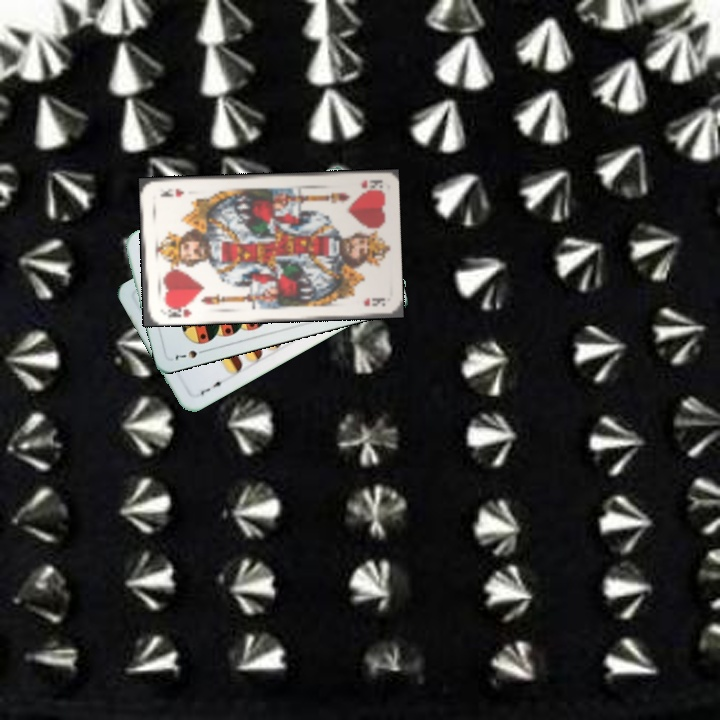E7: (195, 377, 228, 398)
HK: (161, 300, 195, 320), (357, 175, 383, 193)
S7: (171, 345, 209, 363)
